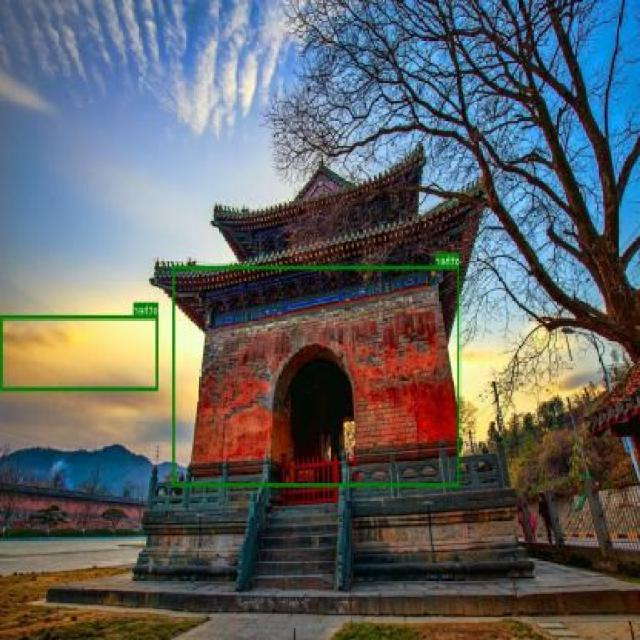other: (173, 264, 461, 486), (0, 314, 160, 390)
